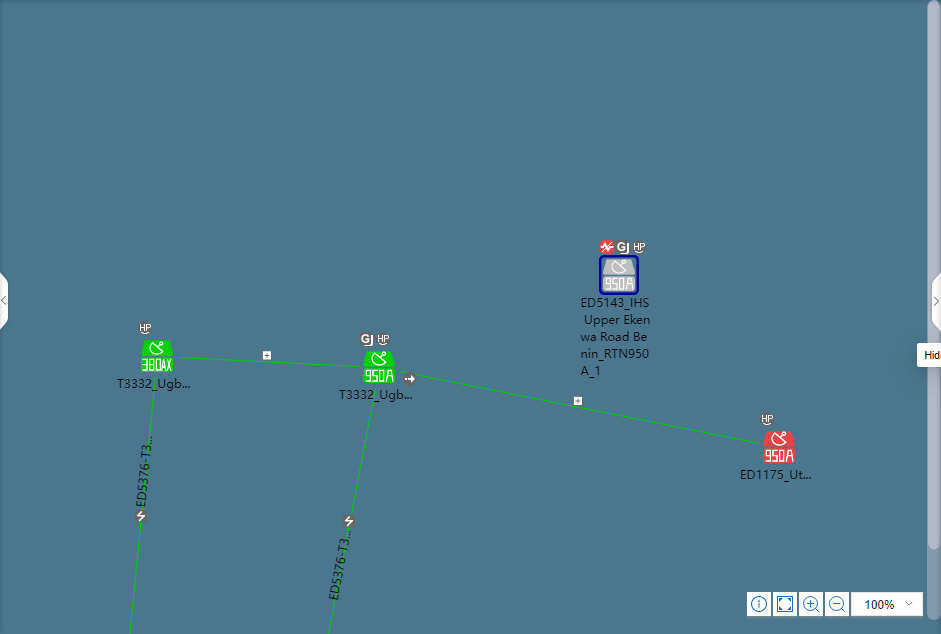Link_Green: (400, 371, 759, 445), (327, 388, 377, 634), (128, 377, 157, 634), (178, 356, 360, 369)
RTN_Gray: (600, 257, 637, 294)
RTN_Green: (363, 352, 394, 384), (141, 341, 172, 372)
RTN_Red: (762, 432, 794, 464)
